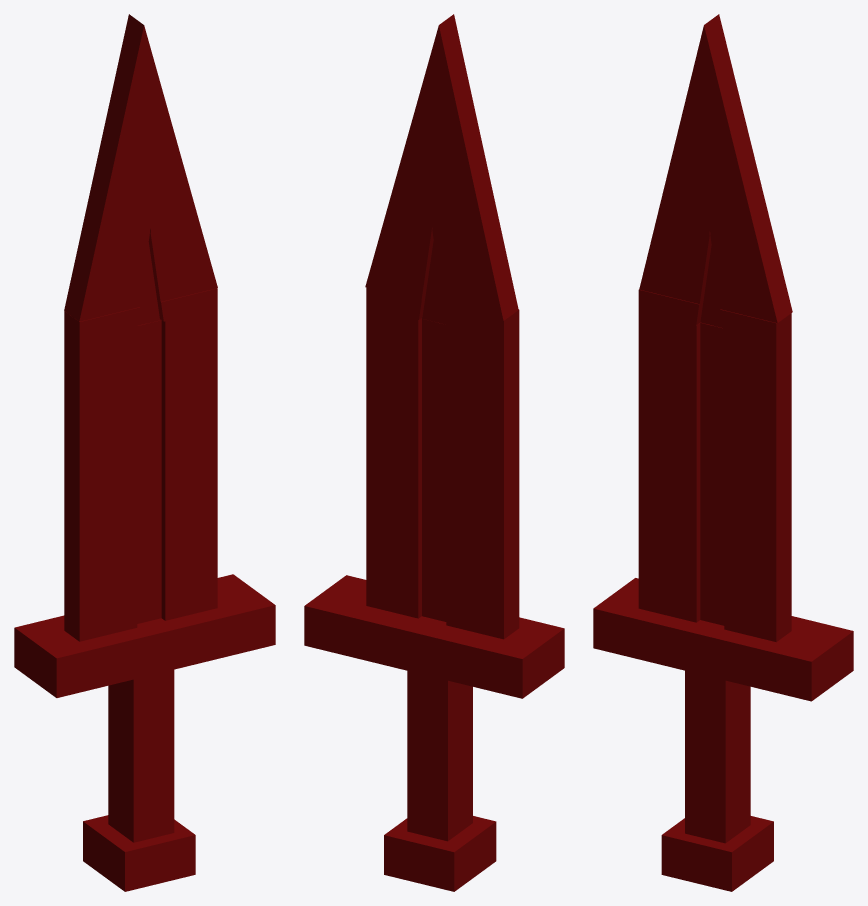
The model's file is Sword.fbx.
The picture shows the model from 3 angles, left to right: view 1: azimuth 30°, elevation 25°; view 2: azimuth 150°, elevation 25°; view 3: azimuth 330°, elevation 25°; orthographic projection.
Visible parts, largest first — view 1: Sword; view 2: Sword; view 3: Sword.
Boxes of the visible parts, x1,y1,x2,y2 form: Sword: [14, 14, 275, 891]; Sword: [304, 14, 564, 891]; Sword: [593, 14, 853, 891].
Bounding box in the file's own units: 105 × 389 × 34.98.
